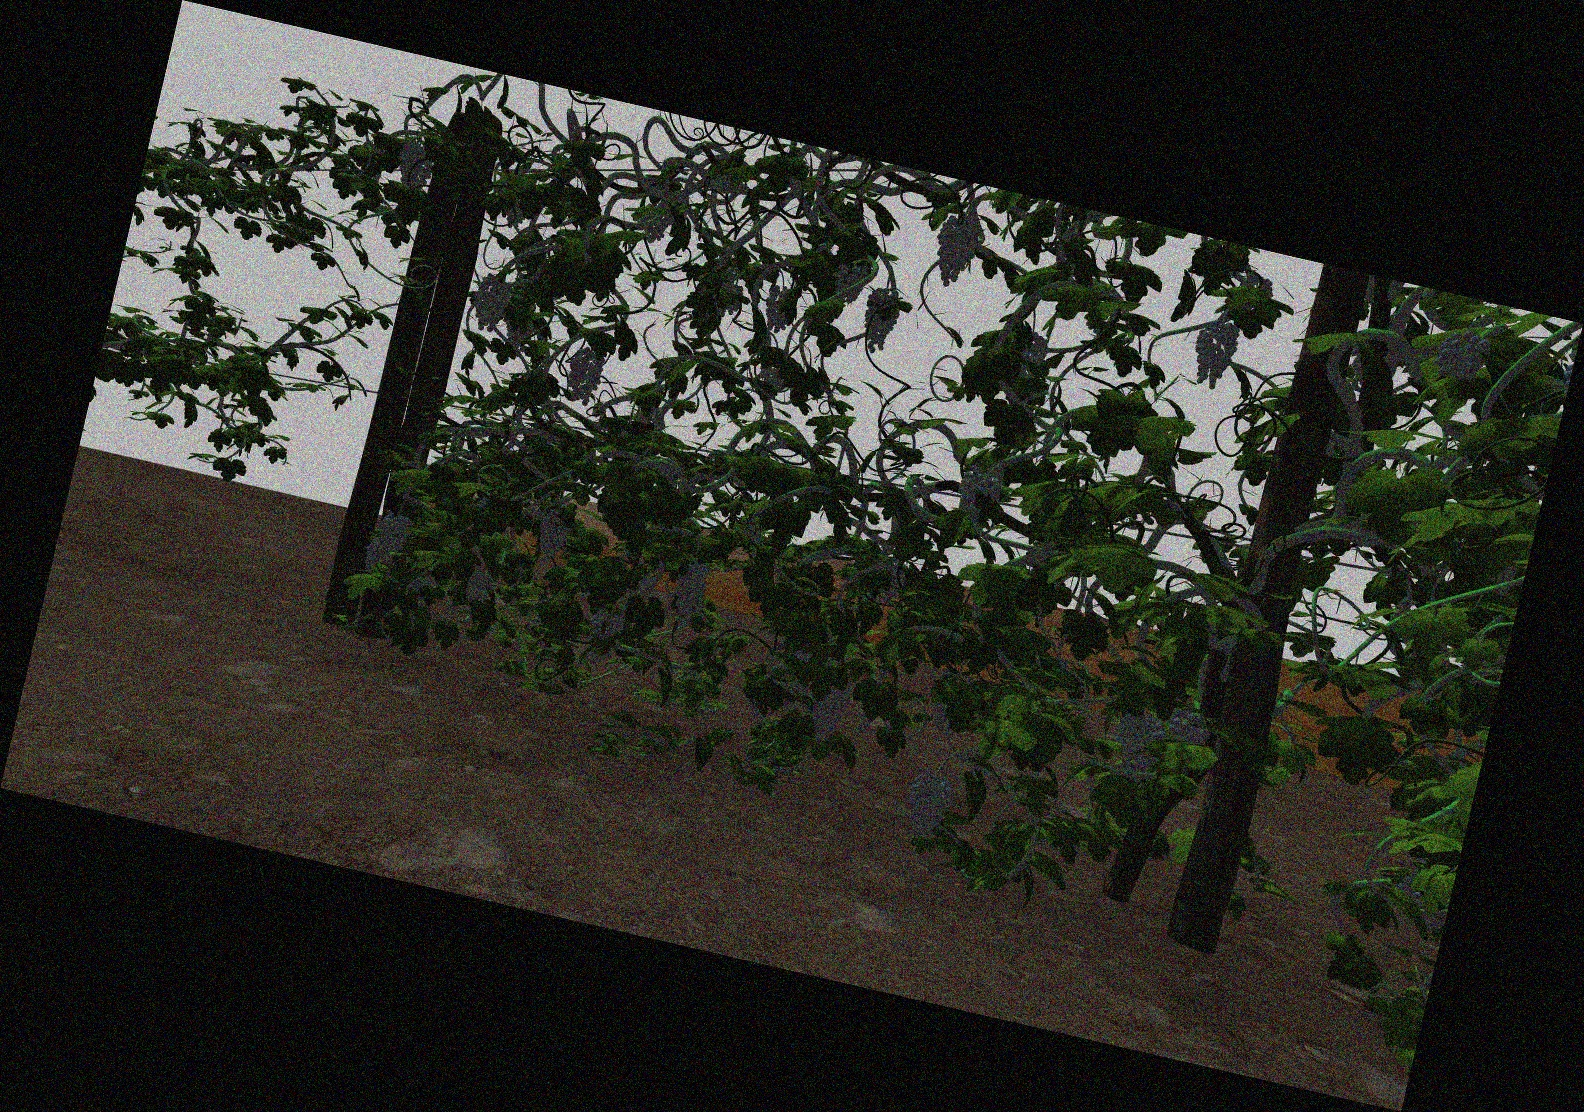grape: (936, 211, 980, 288), (1118, 714, 1163, 781), (859, 288, 902, 354), (806, 681, 849, 747), (908, 775, 948, 842), (958, 466, 1001, 527), (1196, 321, 1234, 390), (471, 273, 512, 335), (563, 347, 604, 406), (394, 141, 436, 197), (1443, 330, 1491, 379), (674, 562, 707, 621), (534, 509, 568, 558), (636, 201, 670, 244), (1170, 711, 1212, 745), (764, 286, 794, 333), (835, 261, 867, 306), (379, 511, 409, 554), (362, 545, 395, 579), (466, 569, 493, 607), (589, 609, 622, 639)
